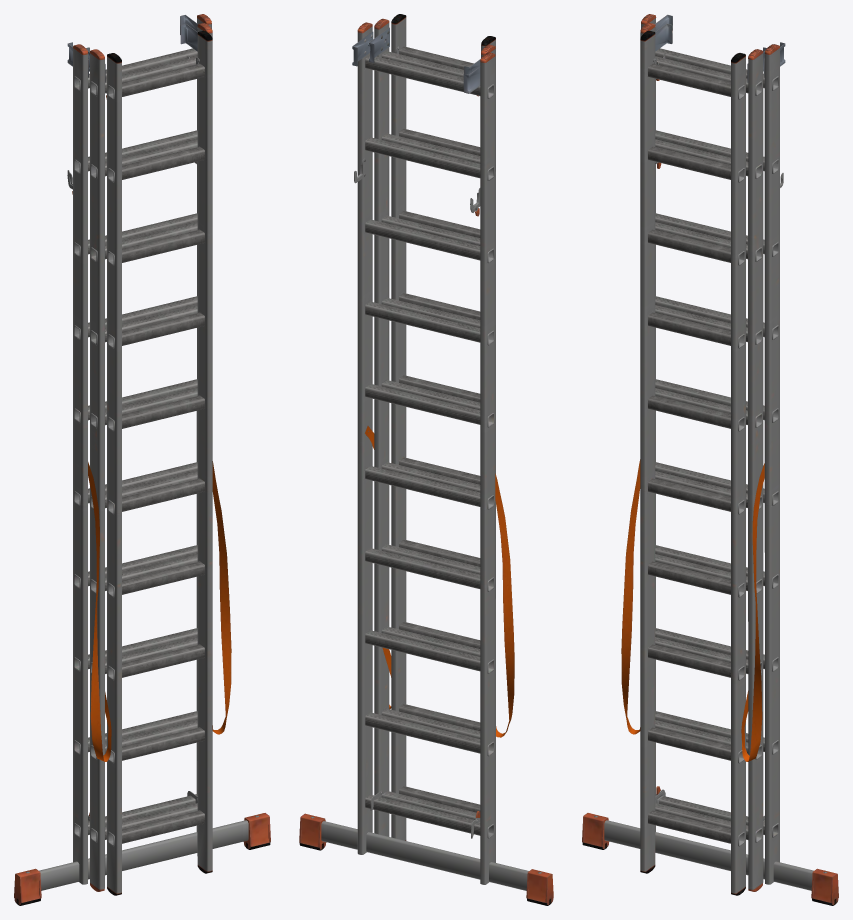
File: ladder_sectioned_01_1k.glb
The picture shows the model from 3 angles, left to right: view 1: azimuth 30°, elevation 25°; view 2: azimuth 150°, elevation 25°; view 3: azimuth 330°, elevation 25°; orthographic projection.
Parts seen in each view (by area): view 1: ladder_section_03, ladder_section_01, ladder_section_02, ladder_ribbon; view 2: ladder_section_01, ladder_section_02, ladder_section_03, ladder_ribbon; view 3: ladder_section_03, ladder_section_01, ladder_section_02, ladder_ribbon.
Part boxes in pixels (<box>): ladder_section_03: <box>106,30,212,895</box>; ladder_section_01: <box>14,14,270,905</box>; ladder_section_02: <box>86,23,212,891</box>; ladder_ribbon: <box>88,461,231,761</box>; ladder_section_01: <box>299,22,553,905</box>; ladder_section_02: <box>369,18,495,862</box>; ladder_section_03: <box>388,14,495,840</box>; ladder_ribbon: <box>365,426,514,737</box>; ladder_section_03: <box>640,30,745,895</box>; ladder_section_01: <box>582,14,838,905</box>; ladder_section_02: <box>640,23,766,891</box>; ladder_ribbon: <box>621,459,764,761</box>.
Bounding box in the file's own units: 0.6616 × 2.13 × 0.1776.
Materials: 1 (1 with a texture image).
